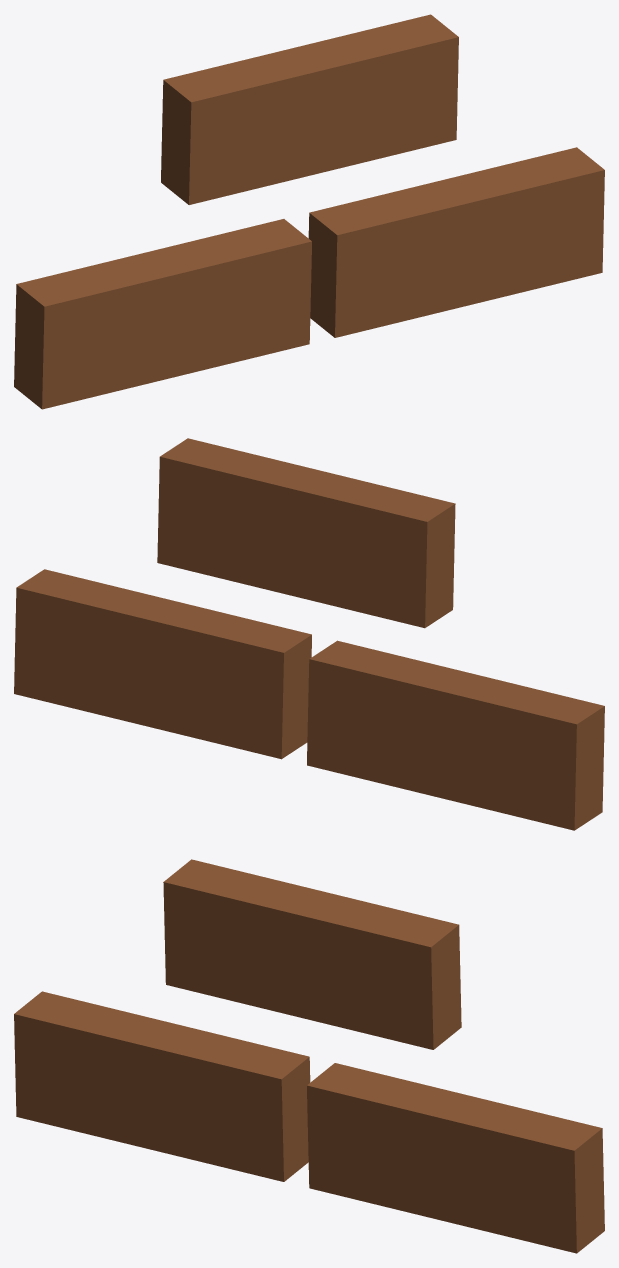
File: brick_group_02.fbx
3 views of the same model, one above another, from view 1: azimuth 30°, elevation 25°; view 2: azimuth 150°, elevation 25°; view 3: azimuth 330°, elevation 25° (orthographic).
Parts seen in each view (by area): view 1: brick_group_02; view 2: brick_group_02; view 3: brick_group_02.
Boxes of the visible parts, x1=… form: brick_group_02: x1=14, y1=14, x2=604, y2=409; brick_group_02: x1=14, y1=438, x2=604, y2=830; brick_group_02: x1=14, y1=859, x2=604, y2=1253.
Size of the model in its own units: 61.64 by 28.79 by 6.05.
1 material, 1 textured.
